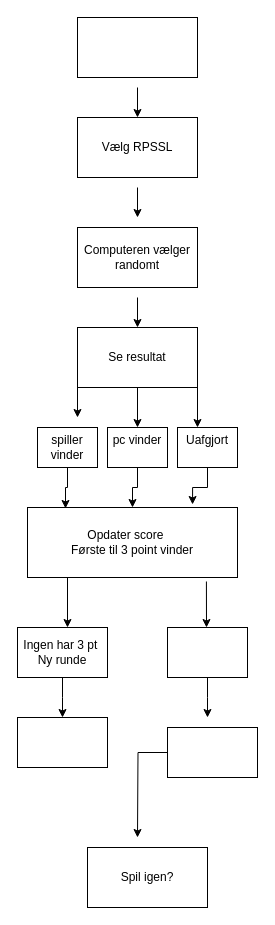
Some shapes in this 275 by 925 pixel diagram are drawn without their labels. Here are the shapes that lost their labels. From the top down, the box of each, then its label:
(76, 16, 198, 78): Start spil
(166, 626, 248, 678): Spiller nået 3 point
(16, 716, 108, 768): Tilbage til valg
(166, 726, 258, 778): Du vandt/Du tabte
